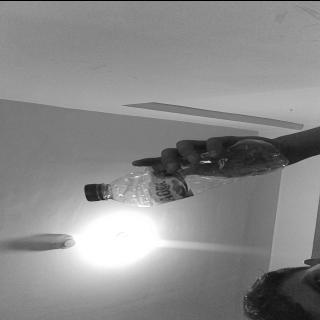plastic_bottles: (80, 138, 288, 206)
